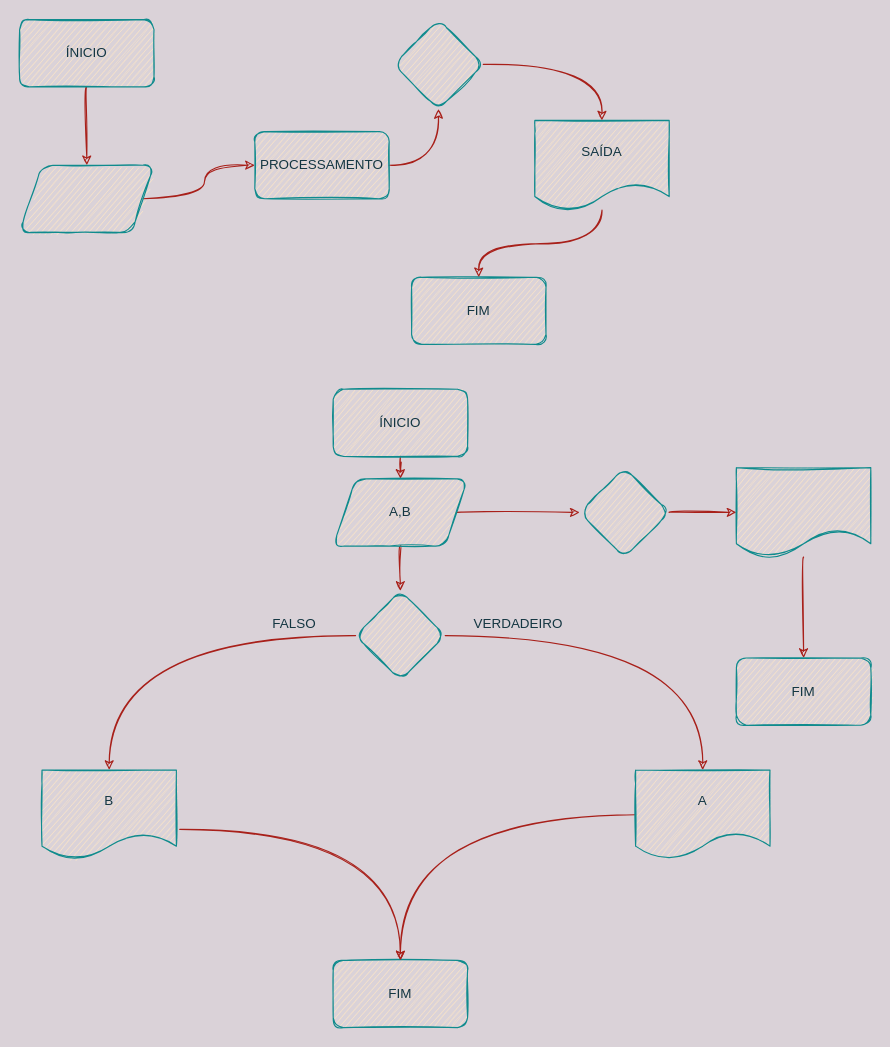
Image size: 890x1047. Some labels were removed from this diagram. Here are the shapes that lost their labels. From the top down, the centre of each, then its label:
the point at 438,63: DECISÃO
the point at 86,198: ENTRADA
the point at 623,511: A=B
the point at 803,511: SÃO IGUAIS
the point at 399,635: A>B
